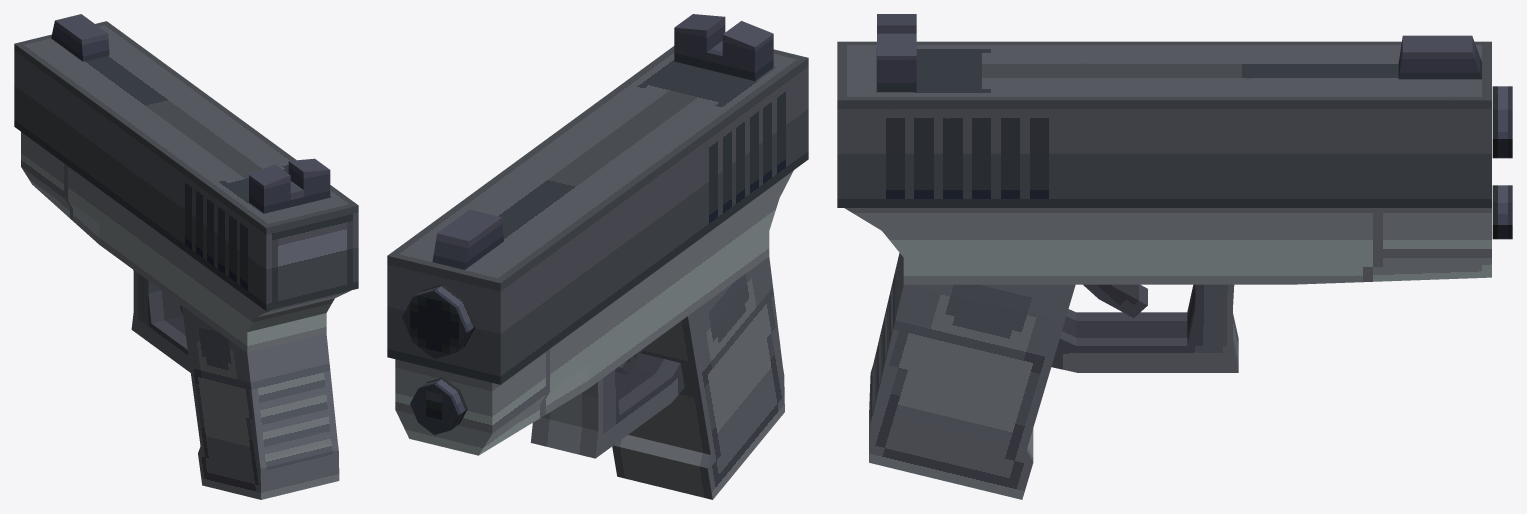
File: glock-19.gltf
3 renders of one model, left to right at view 1: azimuth 30°, elevation 25°; view 2: azimuth 150°, elevation 25°; view 3: azimuth 270°, elevation 25°, orthographic. The views are drawn at different scales.
Visible parts, largest first — view 1: cube (×8); view 2: cube (×10); view 3: cube (×10).
Boxes of the visible parts, x1,y1,x2,y2 form: cube (×8): [14, 14, 358, 499]; cube (×10): [387, 14, 808, 499]; cube (×10): [837, 14, 1512, 499].
Size of the model in its own units: 0.2188 by 0.7746 by 1.06.
1 material, 1 textured.
